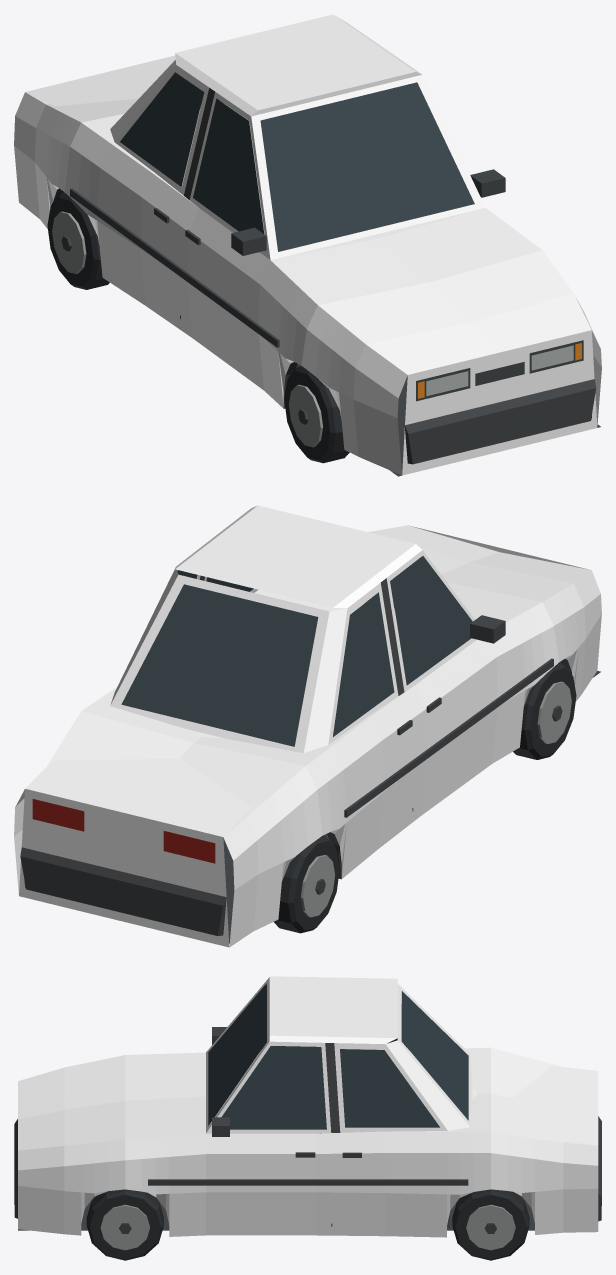
File: tomoe_kogetsu.glb
The picture shows the model from 3 angles, top to bottom: view 1: azimuth 30°, elevation 25°; view 2: azimuth 150°, elevation 25°; view 3: azimuth 270°, elevation 25°; orthographic projection. The views are drawn at different scales.
Visible parts, largest first — view 1: tomoe_kogetsu; view 2: tomoe_kogetsu; view 3: tomoe_kogetsu.
Boxes of the visible parts, <box> form: tomoe_kogetsu: <box>14,14,601,476</box>; tomoe_kogetsu: <box>14,505,601,947</box>; tomoe_kogetsu: <box>14,976,601,1260</box>.
Size of the model in its own units: 1.63 by 1.53 by 3.89.
Materials: 8 (1 with a texture image).
